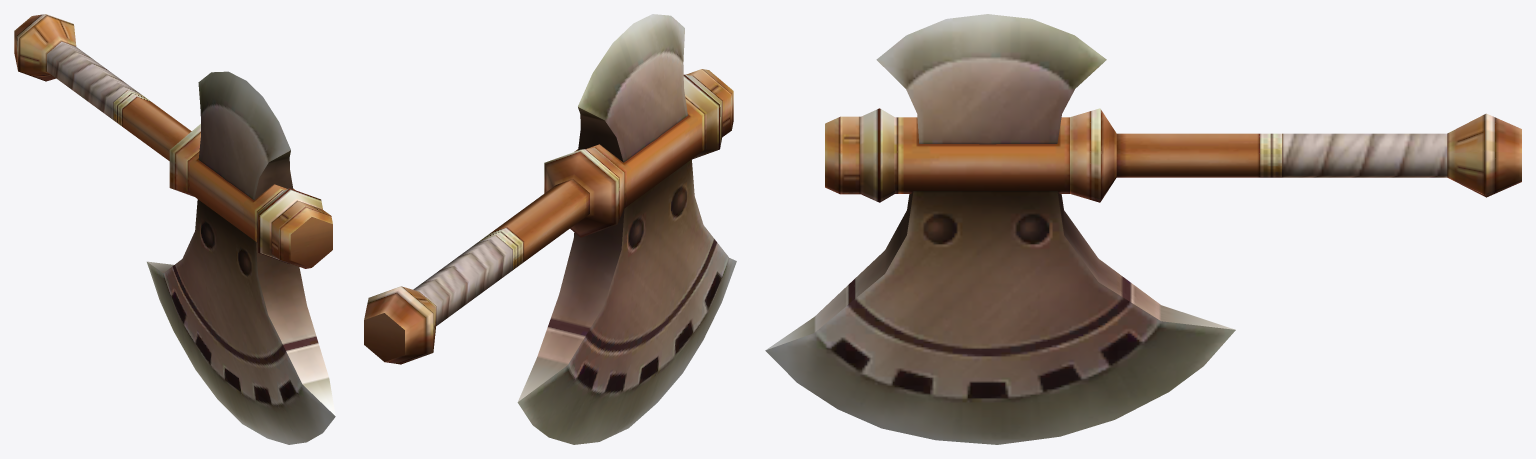
3 views of the same model, side by side, from view 1: azimuth 30°, elevation 25°; view 2: azimuth 150°, elevation 25°; view 3: azimuth 270°, elevation 25° (orthographic). The views are drawn at different scales.
Visible parts, largest first — view 1: mAxe; view 2: mAxe; view 3: mAxe.
Part boxes in pixels (x1,y1,x2,y2): mAxe: (14, 14, 335, 444); mAxe: (364, 14, 736, 444); mAxe: (765, 14, 1521, 444).
Size of the model in its own units: 0.0724 by 0.3812 by 0.6066.
